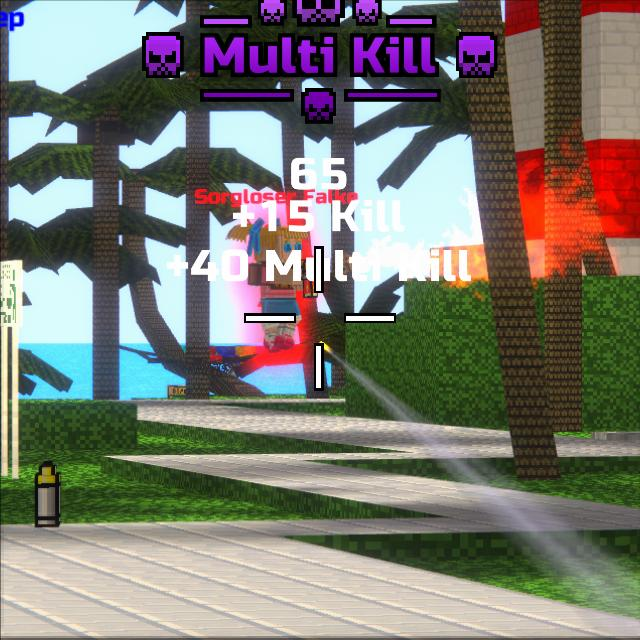Enemy: (247, 226, 308, 353)
